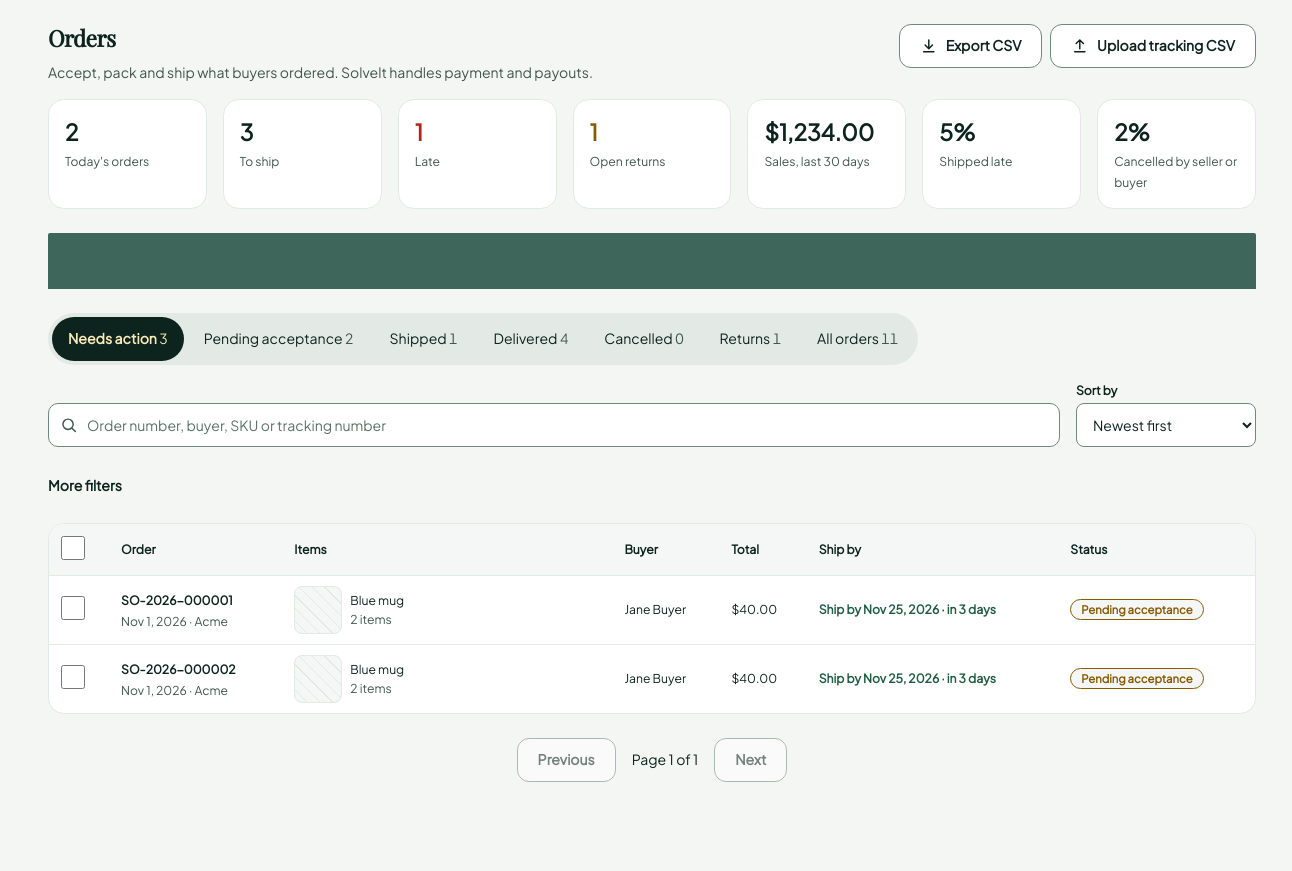
Test: orders list › bulk accept sends the selected ids and reports per-order problems
Click the checkbox named "Select order SO-2026-000001": (73, 608) x1=61 y1=596 x2=85 y2=620
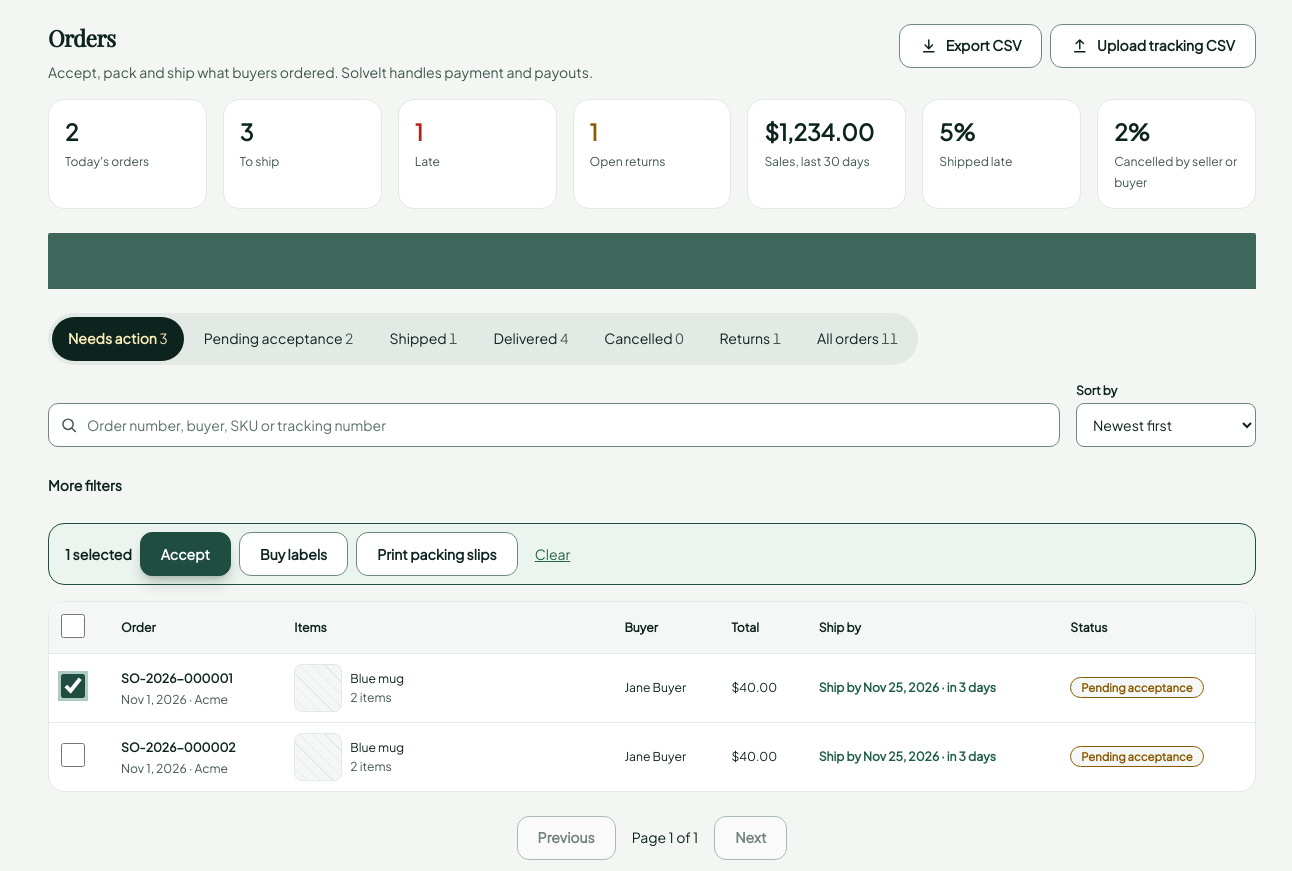
Click the checkbox named "Select order SO-2026-000002": (73, 755) x1=61 y1=743 x2=85 y2=767
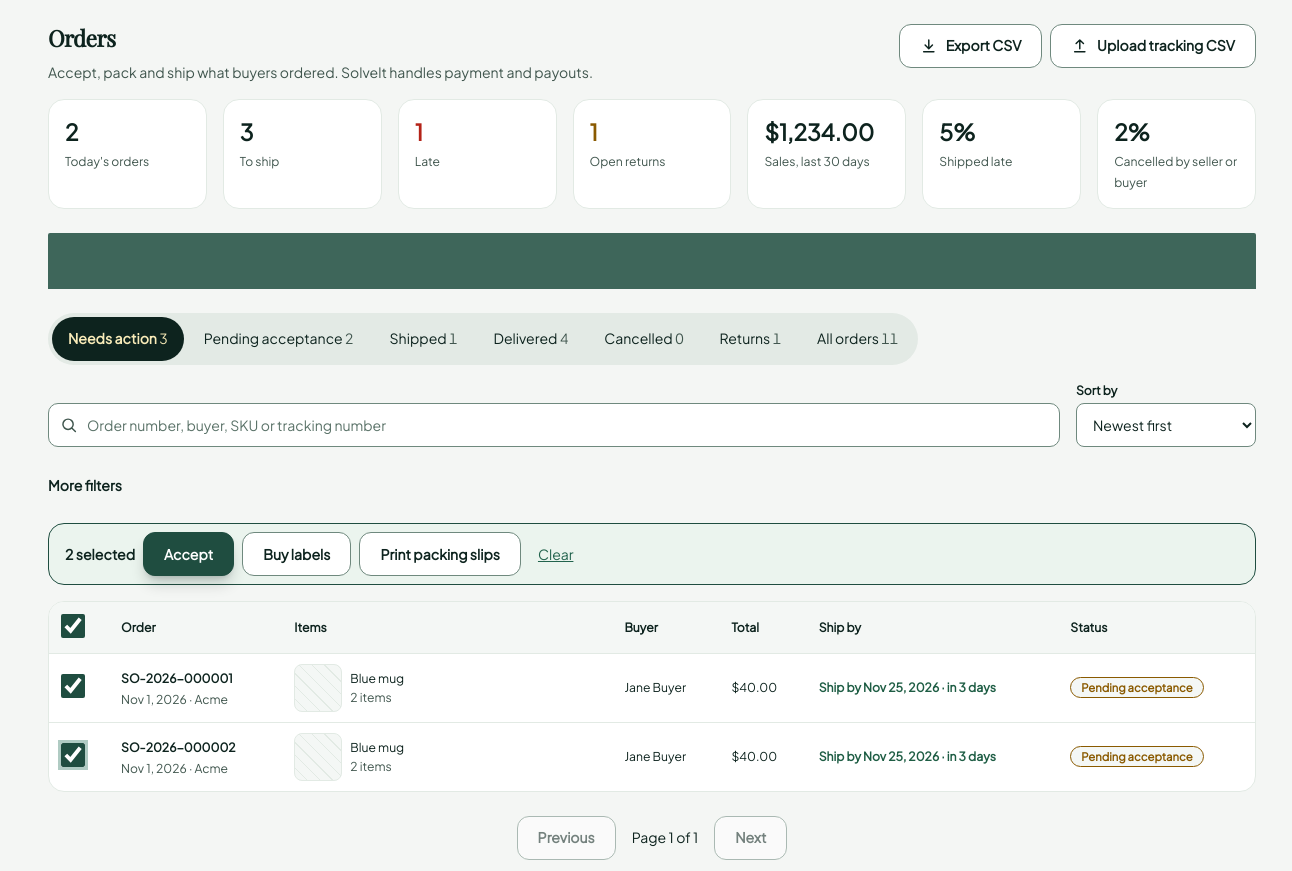
Result: the text "2 selected" is shown at x1=65 y1=544 x2=135 y2=565
Click the button "Accept": (189, 554) x1=143 y1=532 x2=234 y2=576
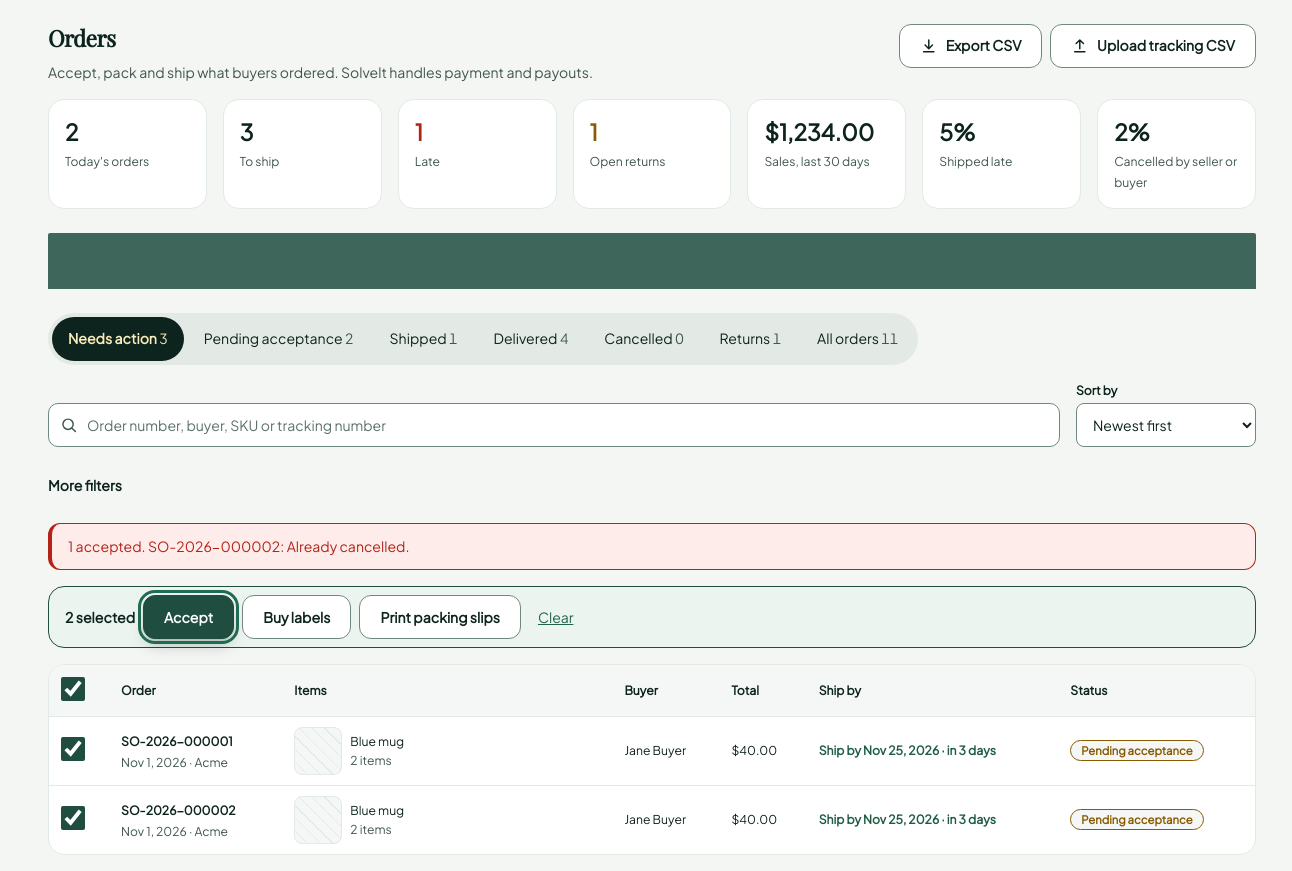
Result: the text "1 accepted. SO-2026-000002: Already cancelled." is shown at x1=48 y1=523 x2=1256 y2=570
